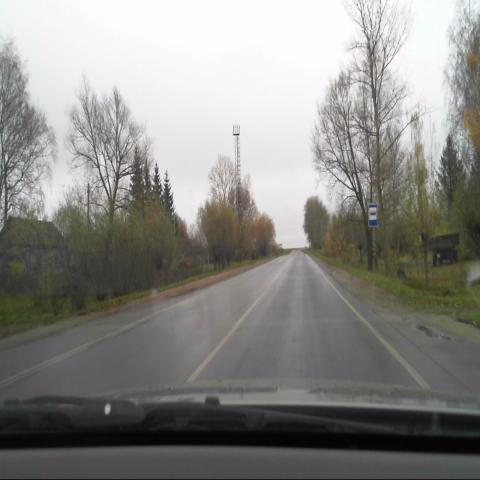5_16: (368, 203, 377, 227)
